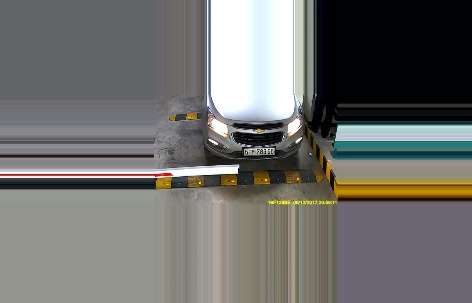plate: (244, 145, 277, 157)
